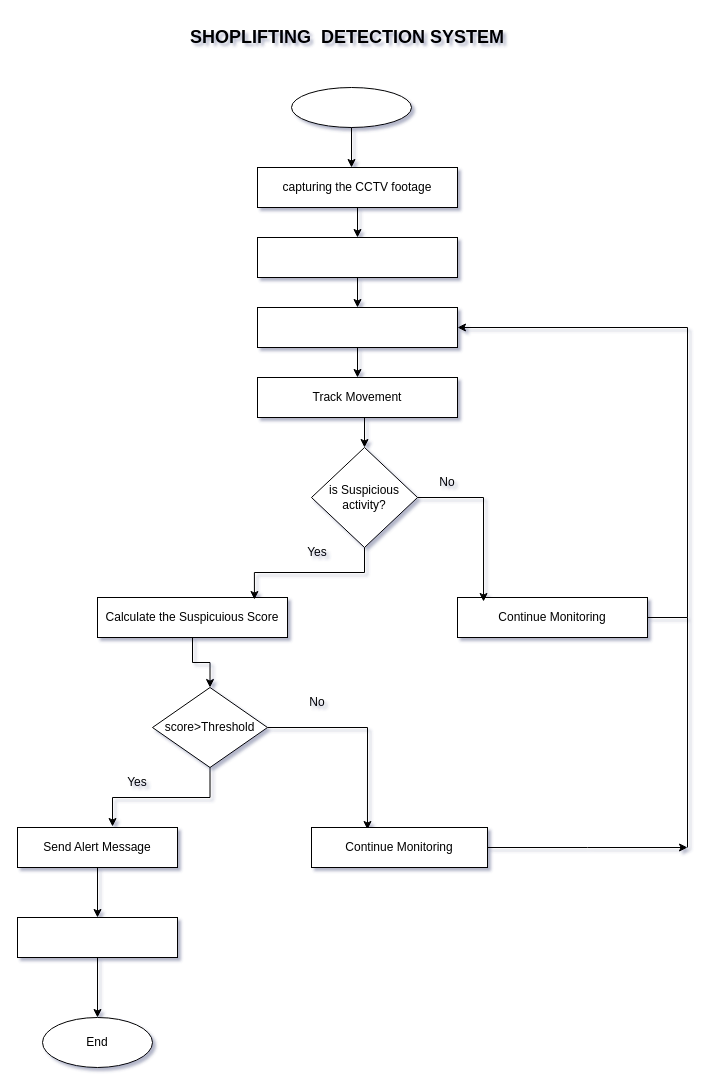
Some shapes in this 719 by 1091 pixel diagram are drawn without their labels. Here are the shapes that lost their labels. From the top down, the centre of each, then its label:
At [351,107]: "start".
At [357,257]: "Preprocess video freames".
At [357,327]: "detect objects/persons".
At [97,937]: "Store video Evidence".
